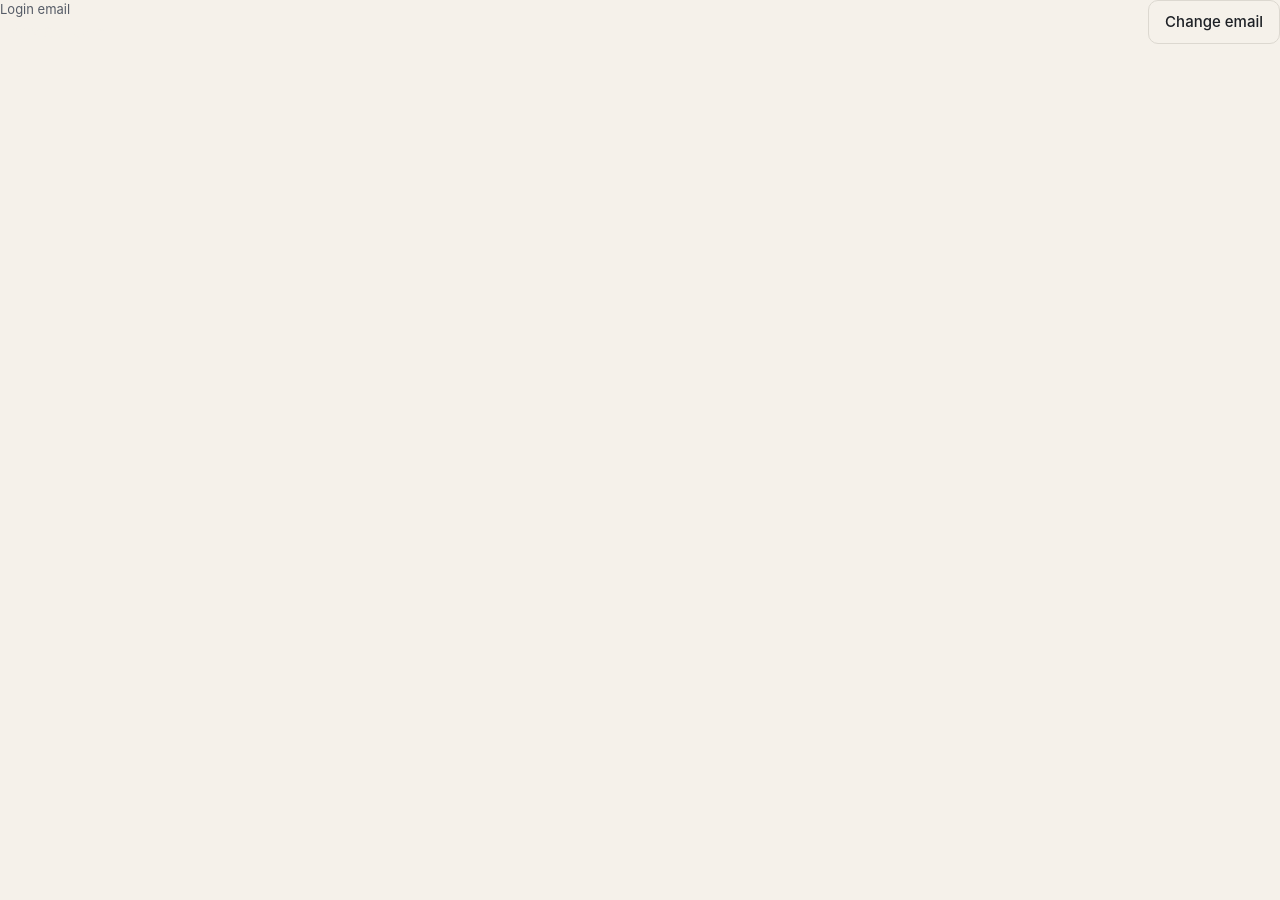
Test: login email editor › requires consent before changing and refreshes mask after success
Click the button "Change email" at (1214, 22), box [1148, 0, 1279, 44]
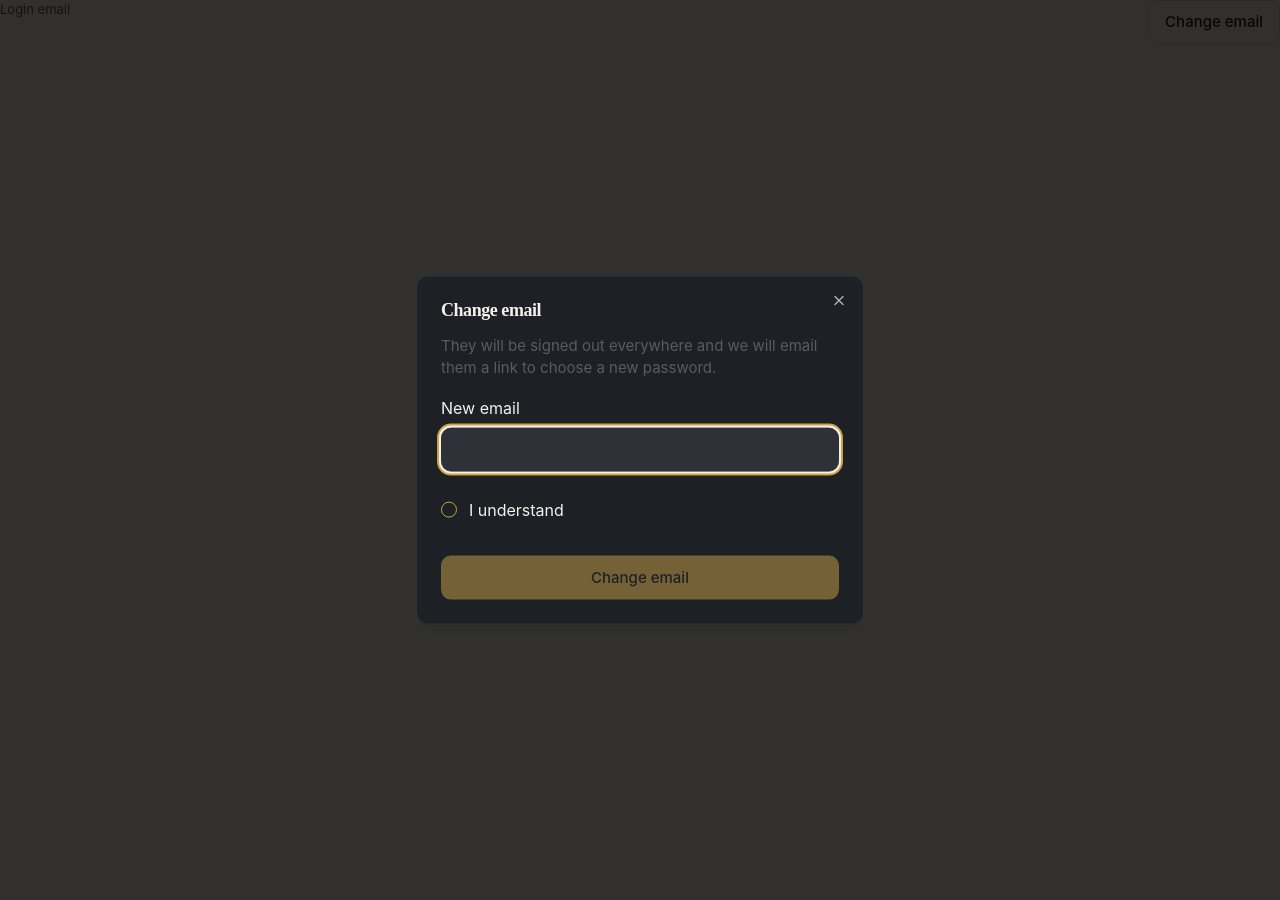
Type "new@x.com" into the field labelled "New email" at (640, 449), box [441, 427, 839, 471]
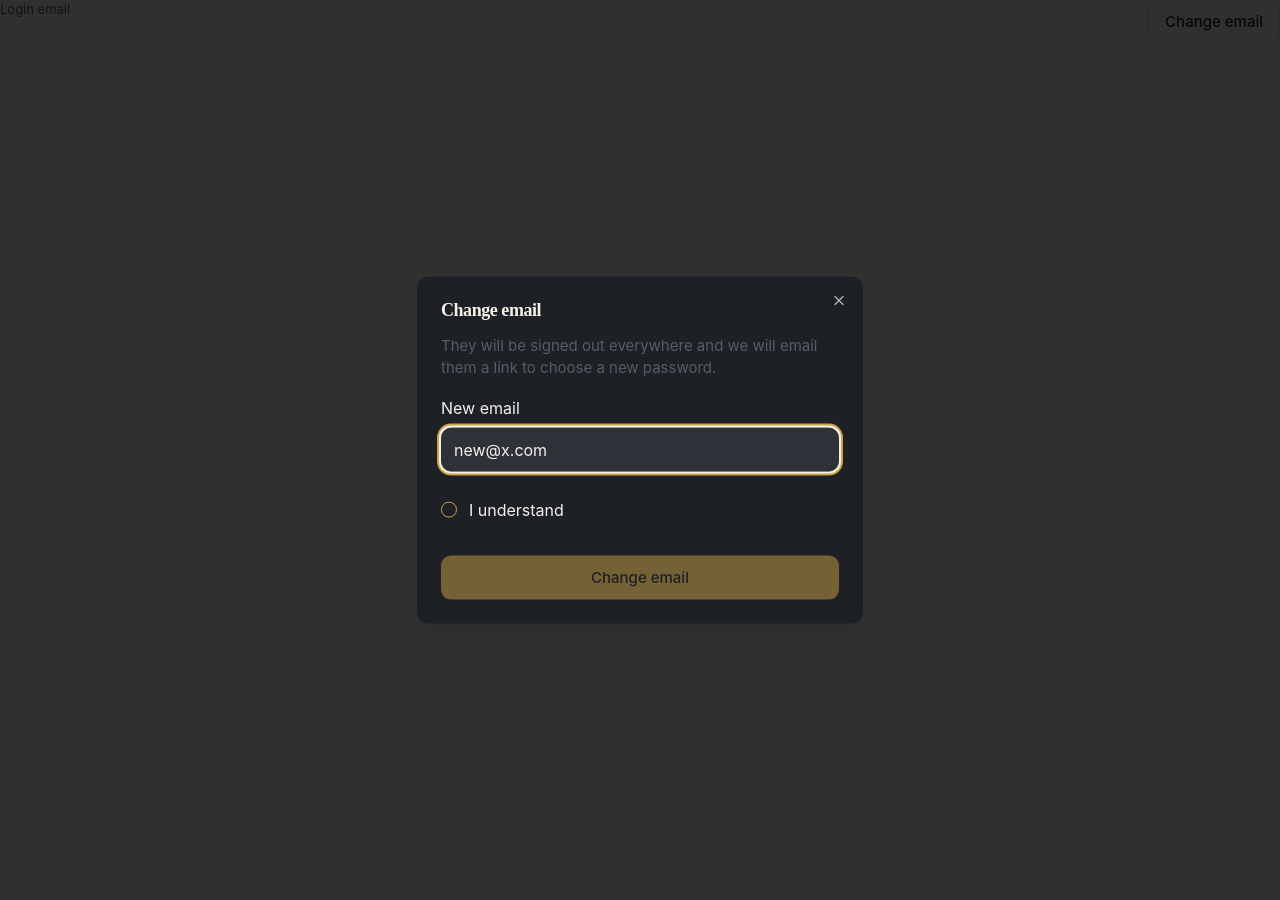
Expected: the button "Change email" is disabled, [441, 555, 839, 599]
Click the checkbox named "I understand" at (449, 509), box [441, 501, 457, 517]
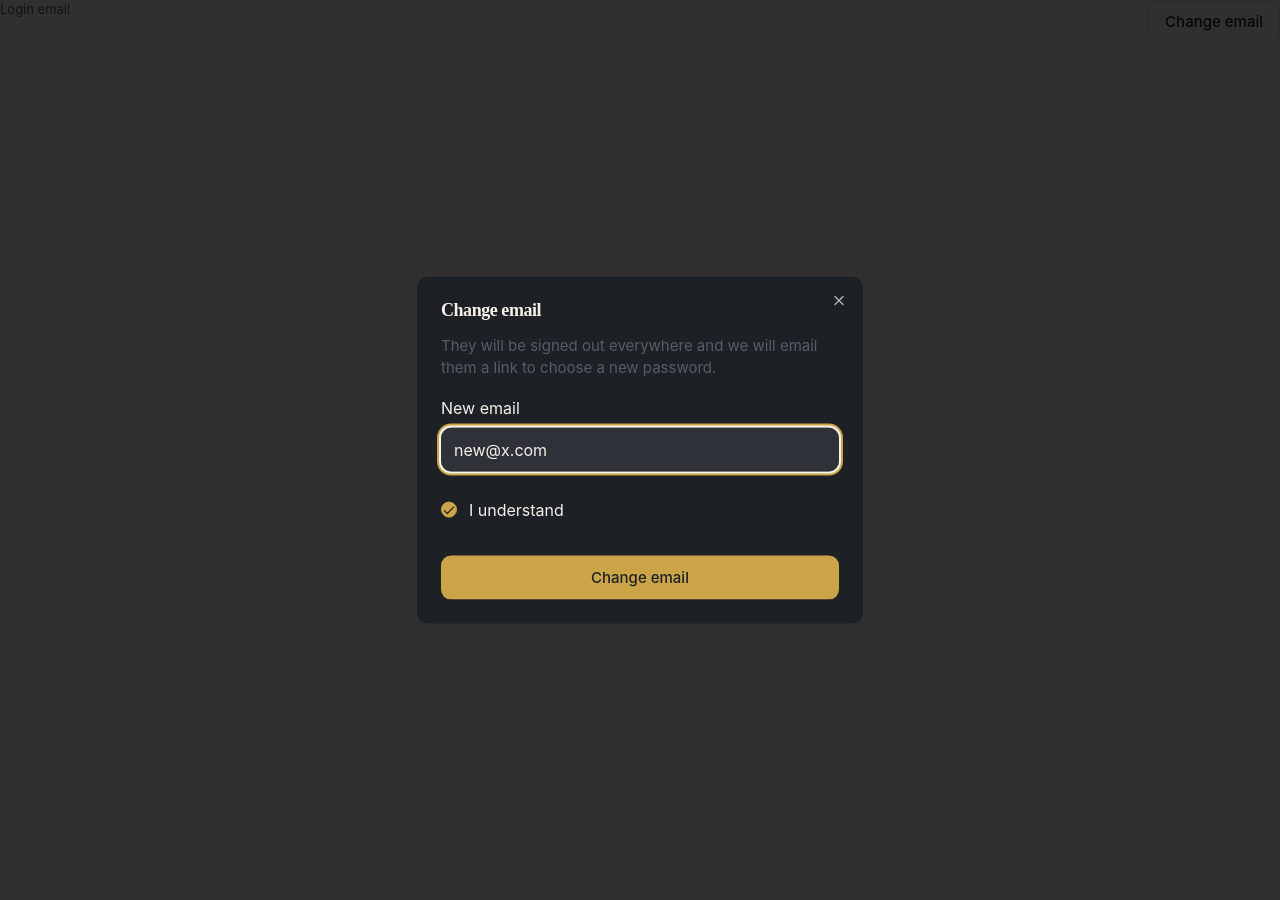
Expected: the button "Change email" is enabled
Click the button "Change email" at (640, 577), box [441, 555, 839, 599]
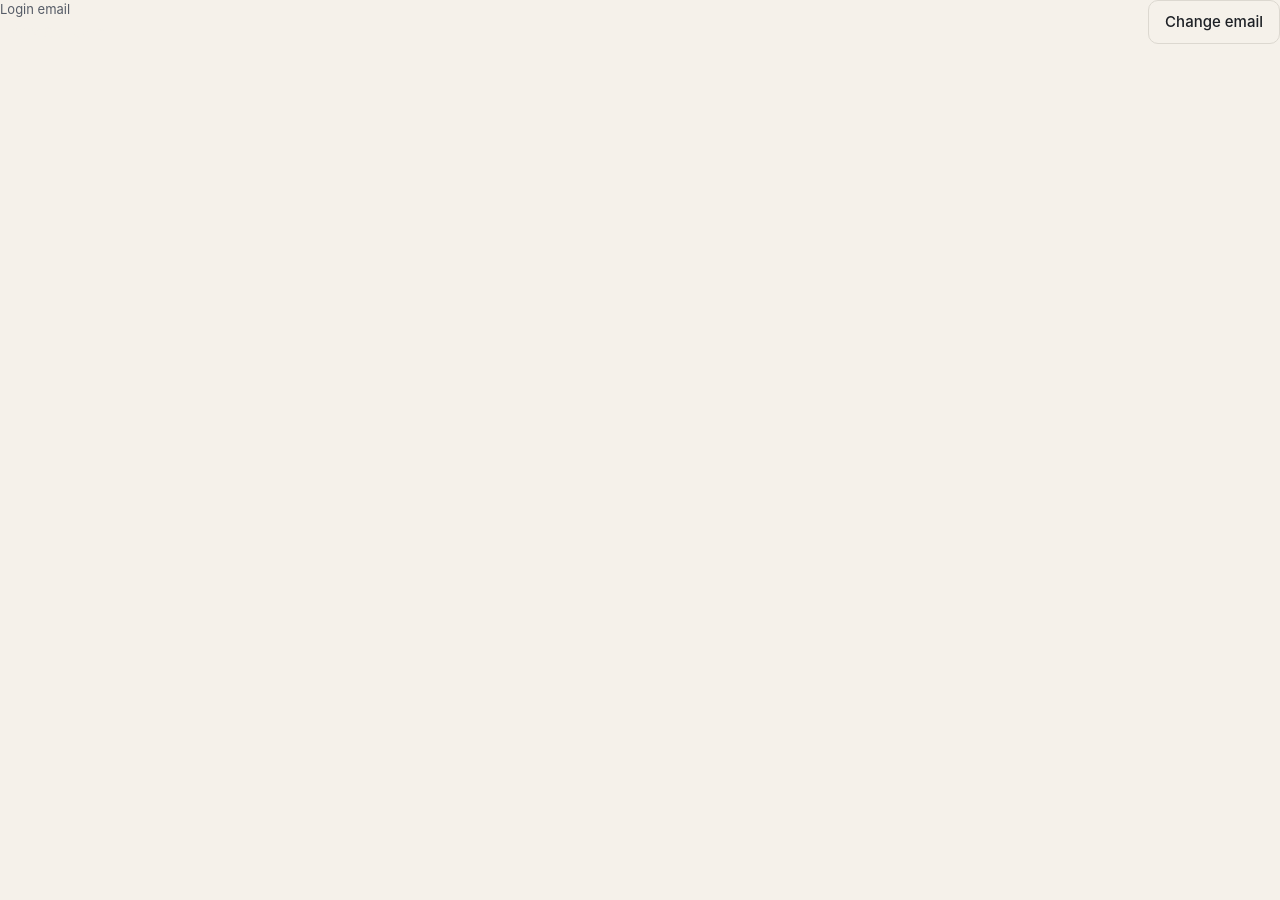
Expected: the checkbox is gone
